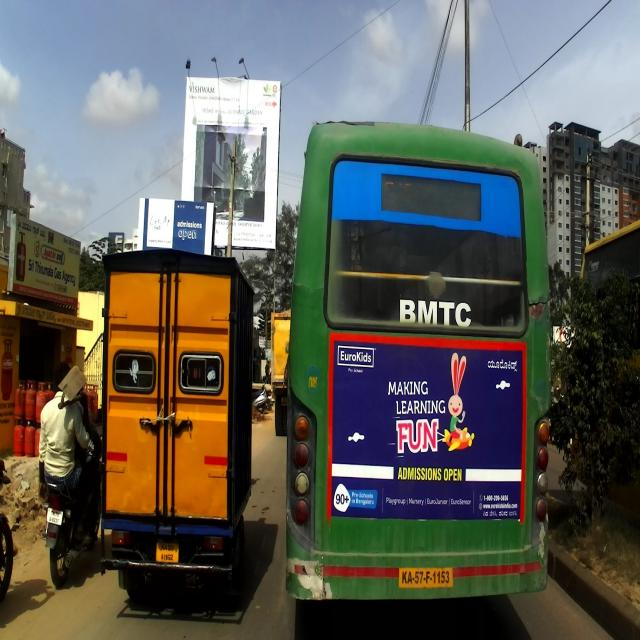autorickshaw: (98, 244, 259, 615)
bus: (282, 117, 550, 607)
motorcycle: (38, 431, 105, 589)
